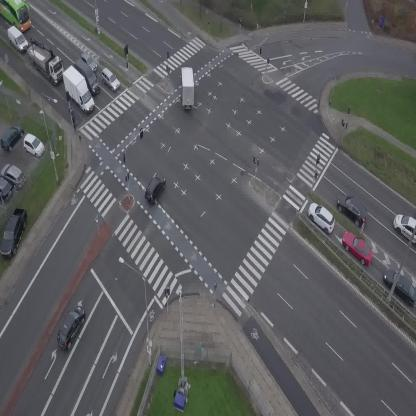bicycle: (71, 114, 79, 131)
car: (52, 302, 91, 351), (332, 188, 374, 231), (337, 227, 379, 267), (303, 199, 340, 236), (141, 172, 170, 206), (96, 65, 124, 93), (393, 214, 416, 248), (78, 50, 100, 72), (13, 412, 26, 416)
lorry: (17, 33, 72, 88), (55, 63, 104, 115), (70, 56, 105, 95), (3, 23, 30, 54), (179, 67, 196, 110)
